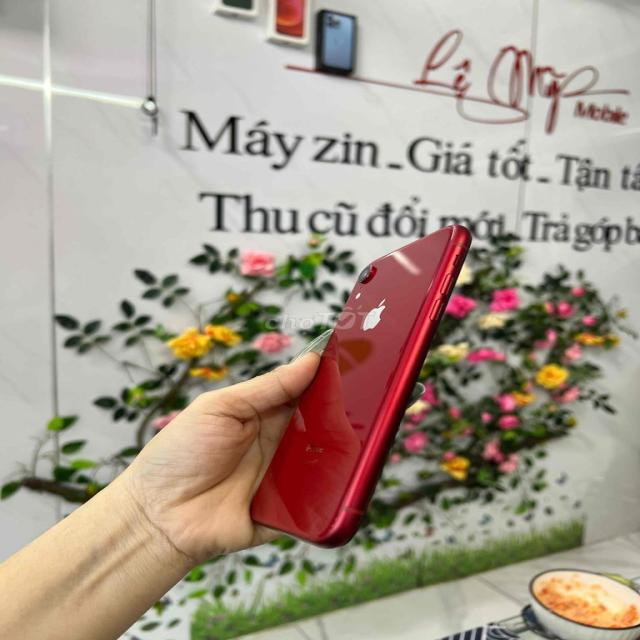gen_x_xs: (242, 222, 475, 551)
